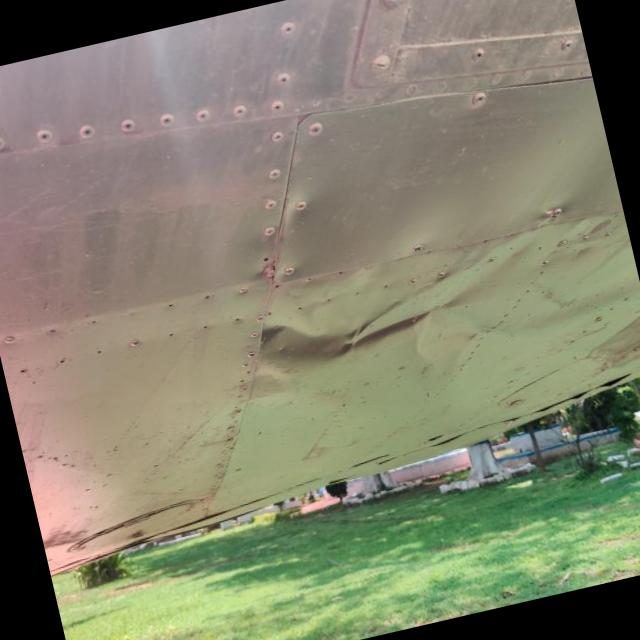Dent: (242, 219, 571, 437)
